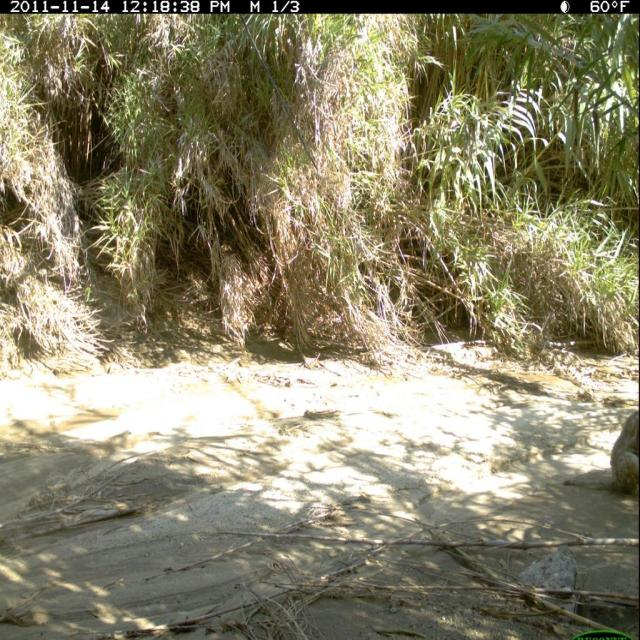coyote: (560, 408, 640, 502)
